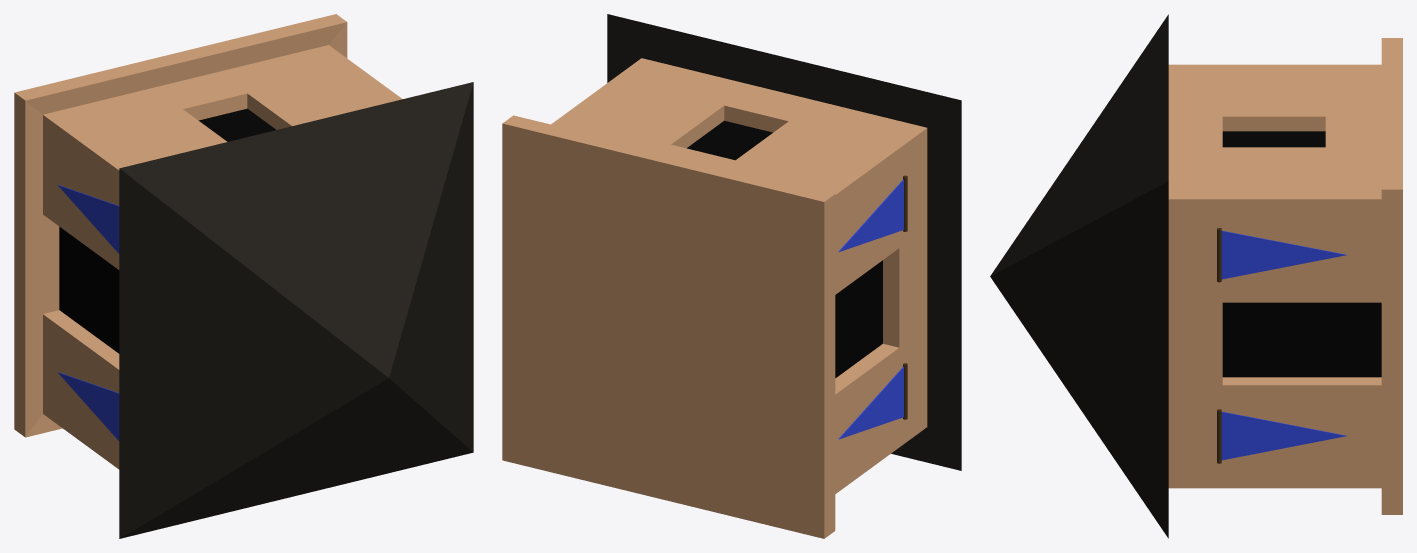
File: house_blue.glb
3 views of the same model, side by side, from view 1: azimuth 30°, elevation 25°; view 2: azimuth 150°, elevation 25°; view 3: azimuth 270°, elevation 25° (orthographic). The views are drawn at different scales.
Parts seen in each view (by area): view 1: Cube.009, HouseBase.001, Cylinder.011; view 2: HouseBase.001, Cube.009, Cylinder.011; view 3: HouseBase.001, Cube.009, Cylinder.010.
Boxes of the visible parts, x1,y1,x2,y2 form: Cube.009: [119, 82, 473, 538]; HouseBase.001: [14, 14, 402, 469]; Cylinder.011: [58, 185, 119, 441]; HouseBase.001: [502, 58, 927, 538]; Cube.009: [607, 14, 961, 470]; Cylinder.011: [838, 175, 907, 439]; HouseBase.001: [1168, 38, 1402, 514]; Cube.009: [990, 14, 1168, 538]; Cylinder.010: [1217, 228, 1346, 463].
Bounding box in the file's own units: 1.64 × 1.64 × 1.72.
